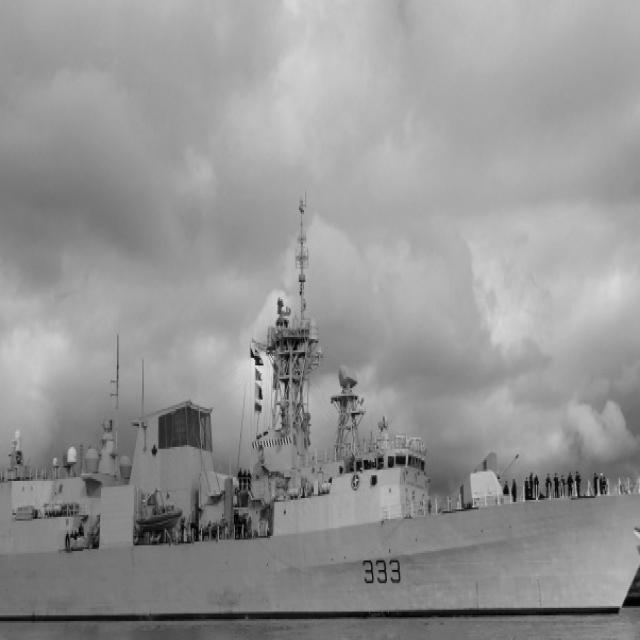Fragata: (1, 173, 640, 624)
